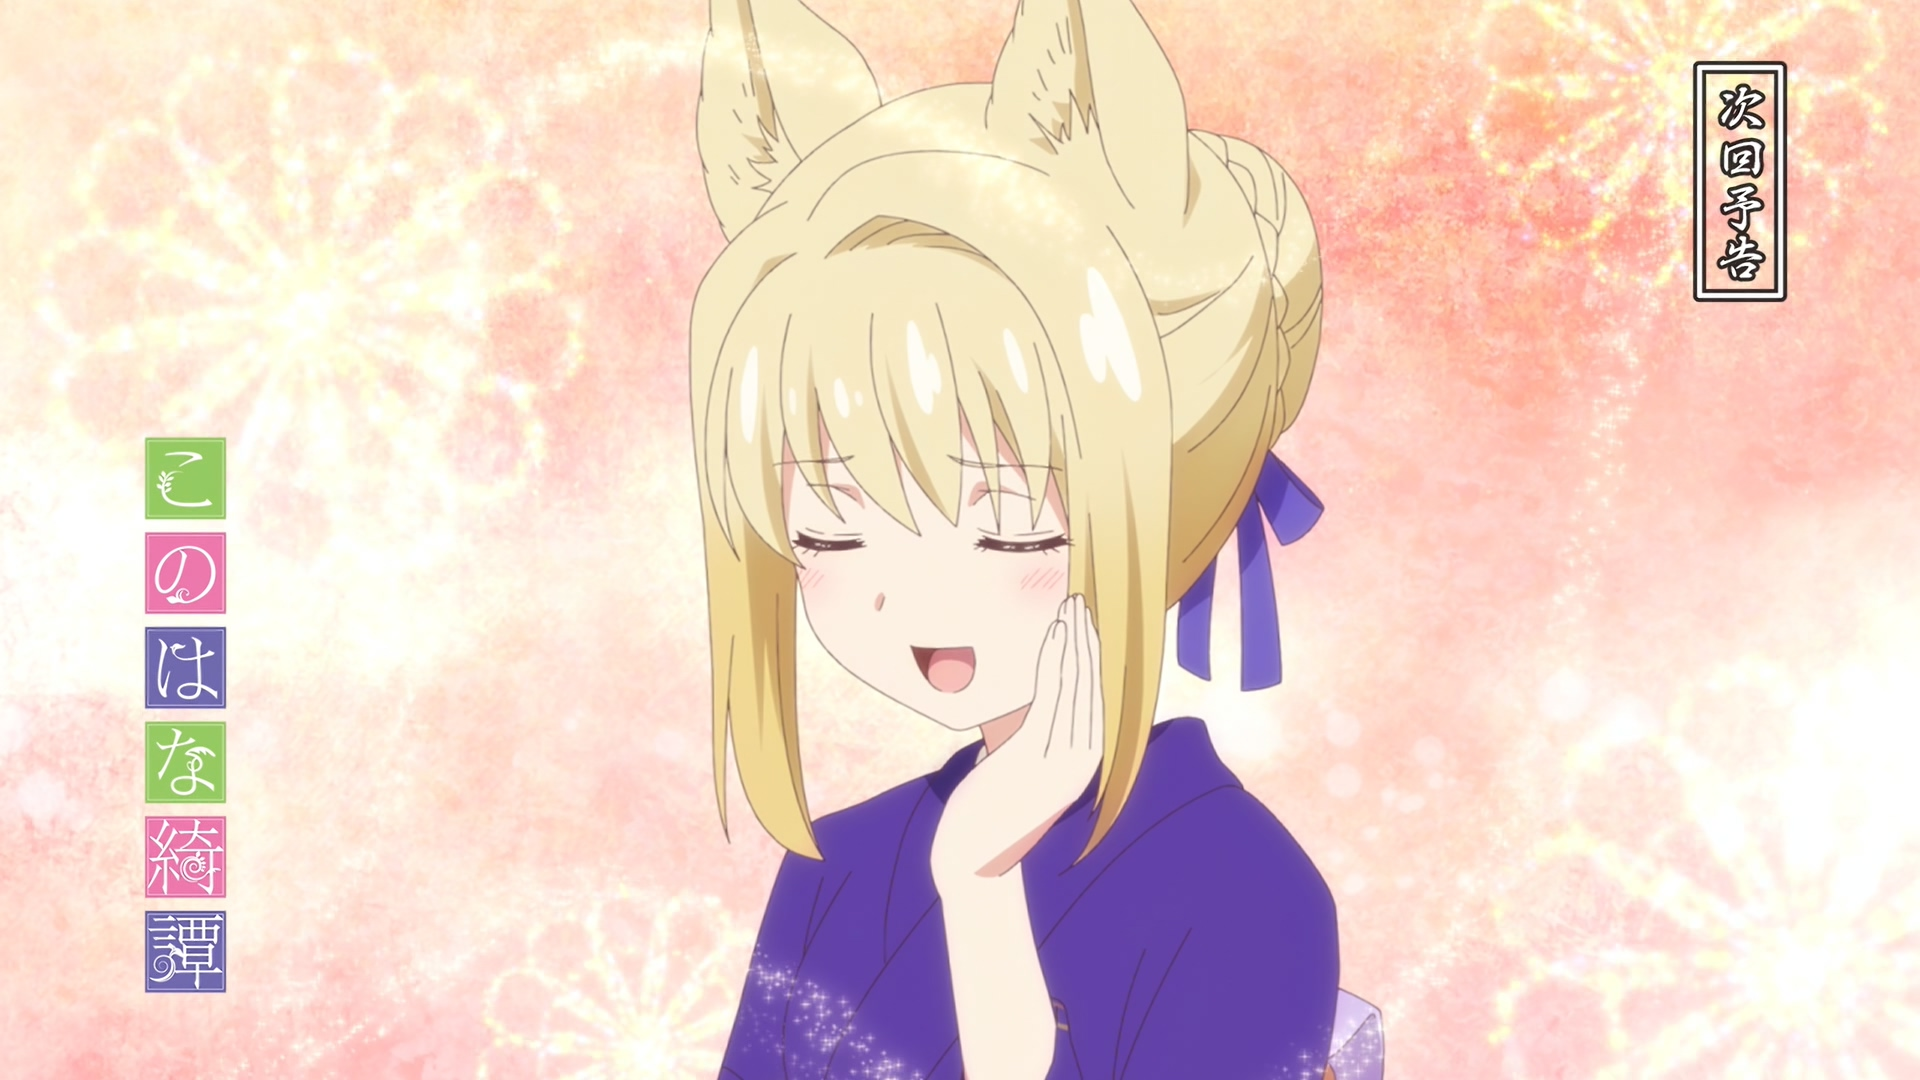桐: (688, 1, 1383, 1080)
